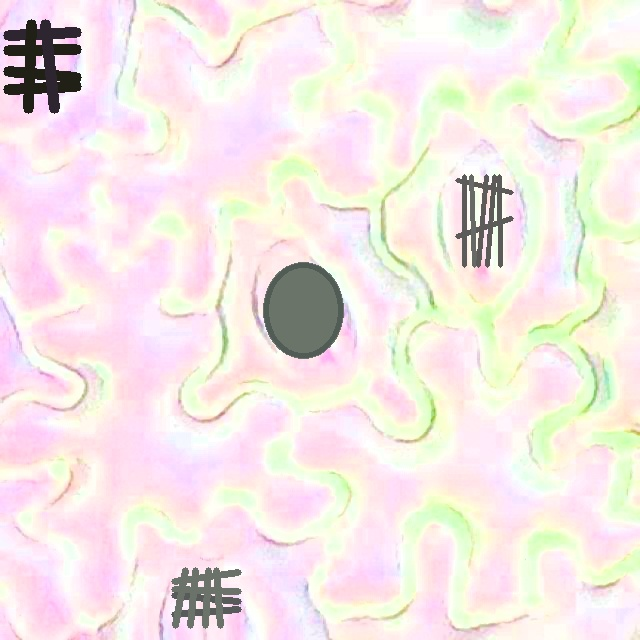open: (263, 262, 343, 358), (4, 20, 80, 113), (455, 174, 513, 267), (171, 567, 241, 628)
